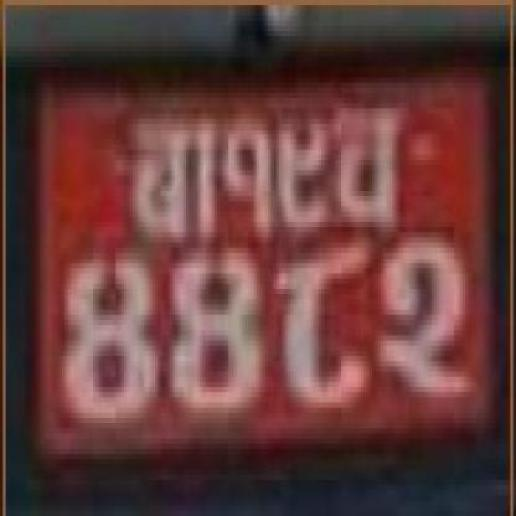1: (223, 114, 279, 258)
2: (381, 238, 490, 434)
4: (167, 248, 271, 434), (60, 248, 169, 423)
8: (271, 238, 379, 439)
9: (279, 108, 333, 253)
ba: (122, 108, 220, 248)
cha: (335, 93, 412, 242)
